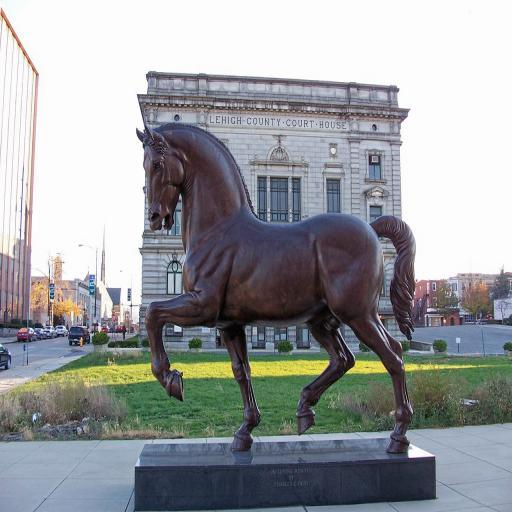Horse: (134, 121, 417, 456)
